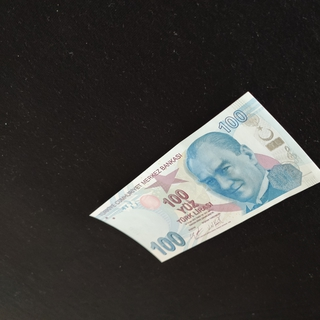100TLFront: (89, 91, 320, 263)
